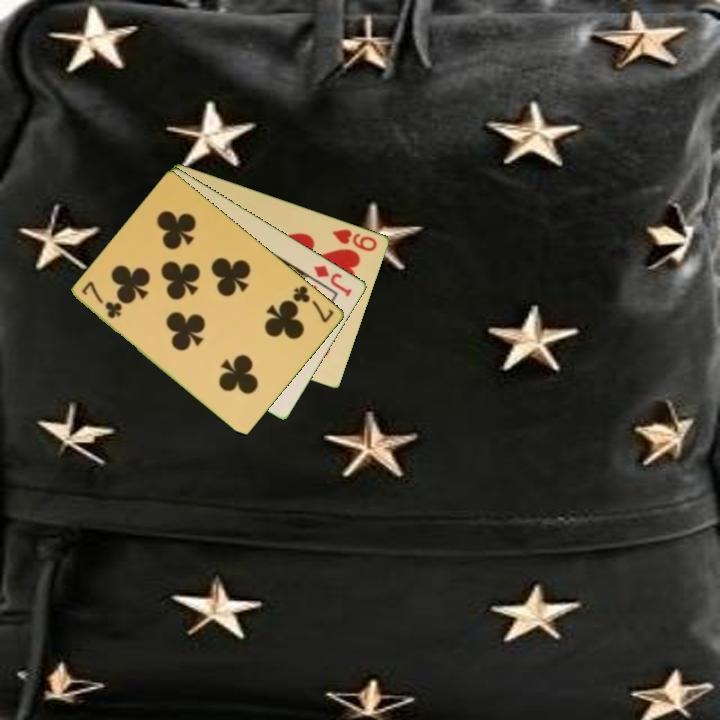7c: (289, 282, 337, 326), (79, 278, 125, 322)
9h: (329, 225, 380, 254)
Jd: (310, 261, 355, 300)
